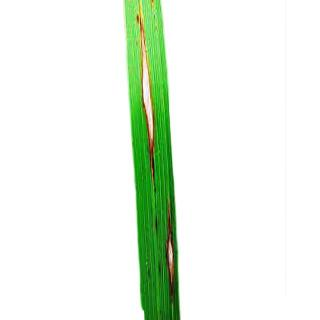Blast: (129, 8, 168, 176), (152, 194, 185, 300)
